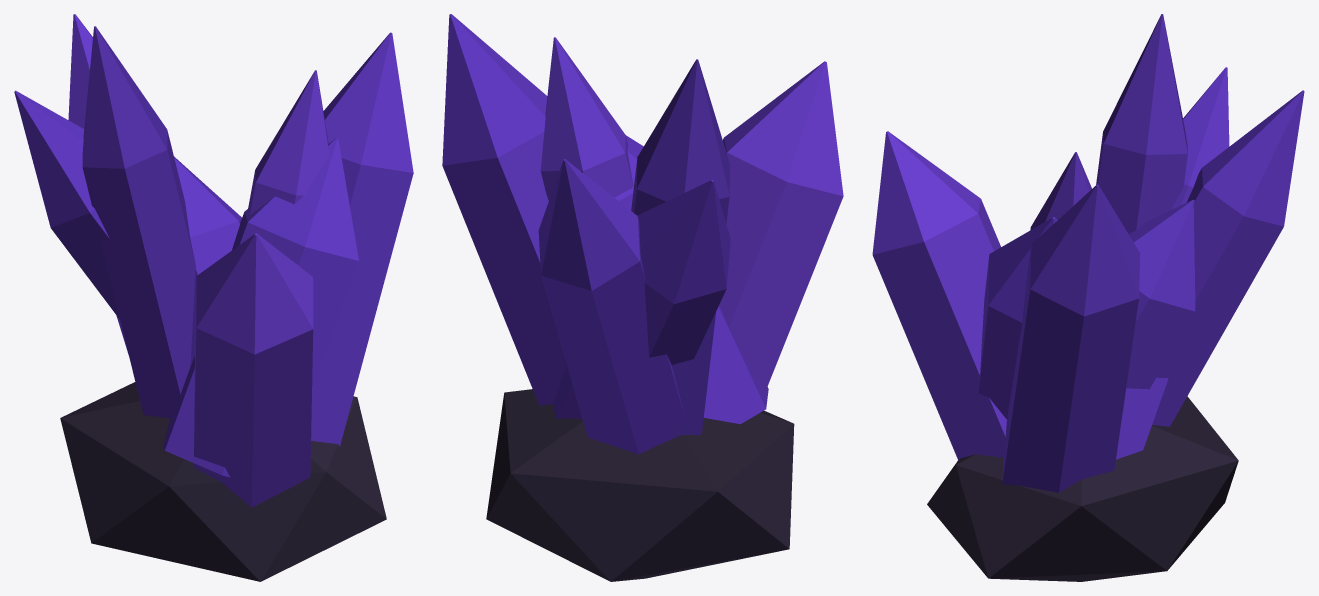
File: voltaic_crystal.glb
3 views of the same model, side by side, from view 1: azimuth 30°, elevation 25°; view 2: azimuth 150°, elevation 25°; view 3: azimuth 270°, elevation 25° (orthographic). The views are drawn at different scales.
Parts seen in each view (by area): view 1: Mesh; view 2: Mesh; view 3: Mesh.
Boxes of the visible parts, x1,y1,x2,y2 form: Mesh: [14, 14, 413, 581]; Mesh: [442, 14, 843, 581]; Mesh: [872, 14, 1304, 581].
Size of the model in its own units: 0.4221 by 0.6667 by 0.4972.
